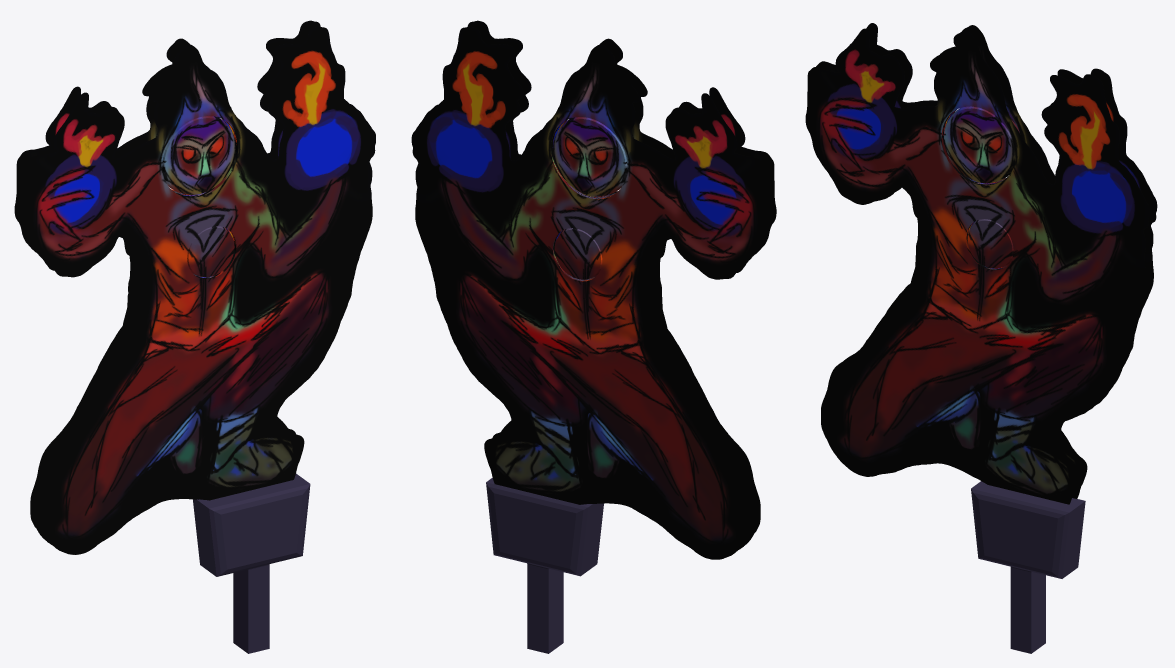
File: Bomber.fbx
3 renders of one model, left to right at view 1: azimuth 30°, elevation 25°; view 2: azimuth 150°, elevation 25°; view 3: azimuth 330°, elevation 25°, orthographic. The views are drawn at different scales.
Visible parts, largest first — view 1: Bomber, BomberHolder, BomberHead, BomberHeart; view 2: Bomber, BomberHolder, BomberHead, BomberHeart; view 3: Bomber, BomberHolder, BomberHead, BomberHeart.
Part boxes in pixels (x1=…): Bomber: x1=14, y1=20, x2=375, y2=554; BomberHolder: x1=193, y1=473, x2=310, y2=653; BomberHead: x1=162, y1=116, x2=235, y2=194; BomberHeart: x1=187, y1=226, x2=234, y2=277; Bomber: x1=411, y1=20, x2=776, y2=559; BomberHolder: x1=486, y1=478, x2=603, y2=653; BomberHead: x1=553, y1=117, x2=627, y2=196; BomberHeart: x1=554, y1=228, x2=602, y2=279; Bomber: x1=805, y1=23, x2=1157, y2=504; BomberHolder: x1=971, y1=481, x2=1085, y2=653; BomberHead: x1=944, y1=106, x2=1015, y2=183; BomberHeart: x1=967, y1=219, x2=1013, y2=268.
Bounding box in the file's own units: 1.02 × 1.69 × 0.1025.
